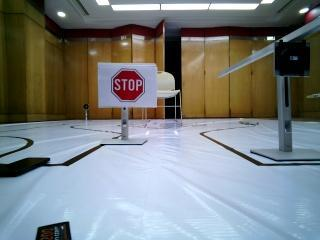stop: (103, 64, 152, 106)
